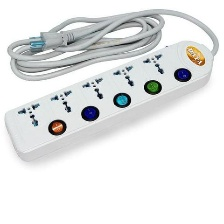three_eye_plug: (1, 39, 217, 167)
